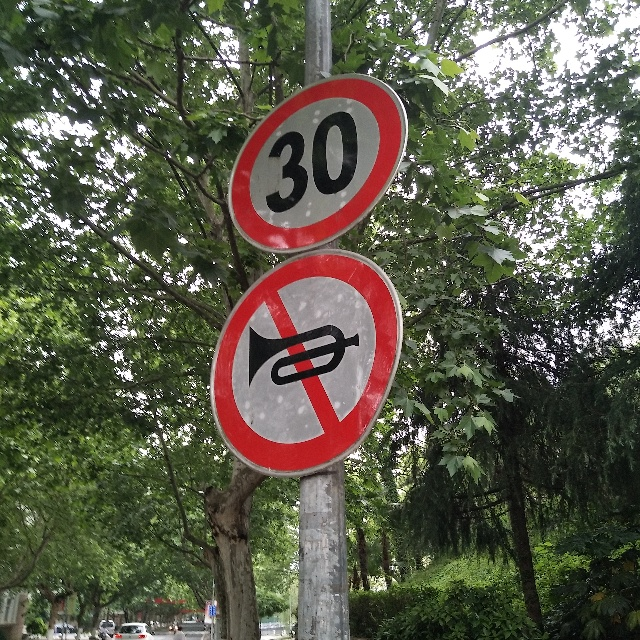nohonk: (232, 287, 381, 434)
